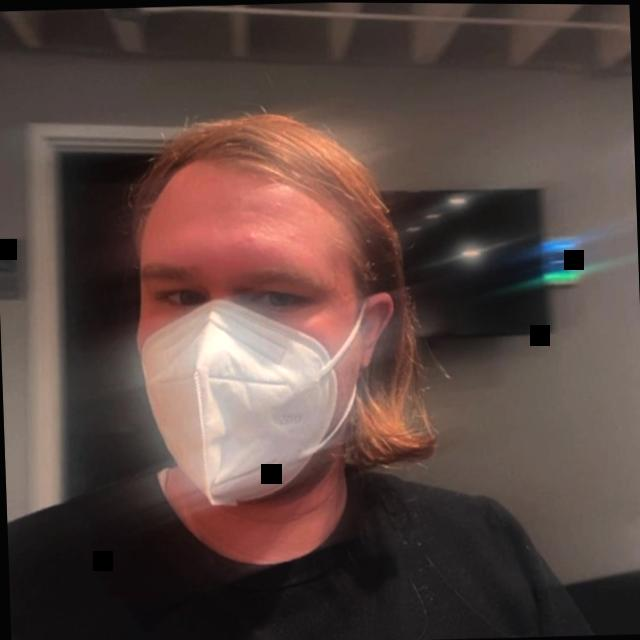Mask: (92, 105, 441, 580)
